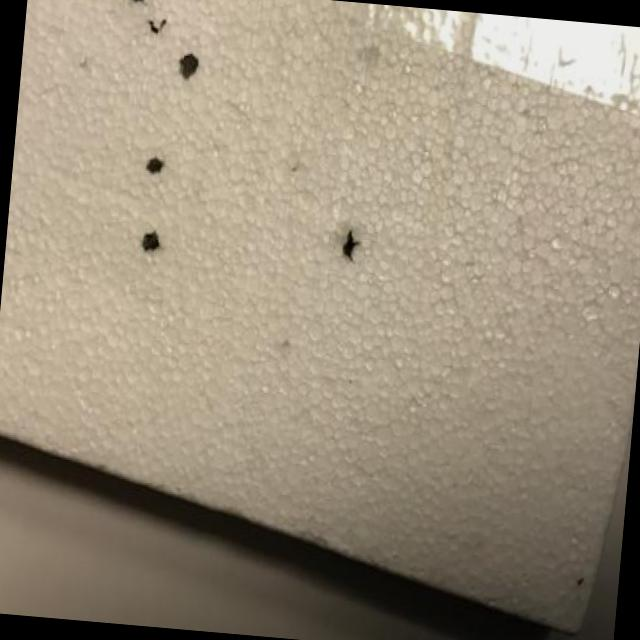xop: (0, 0, 640, 630)
